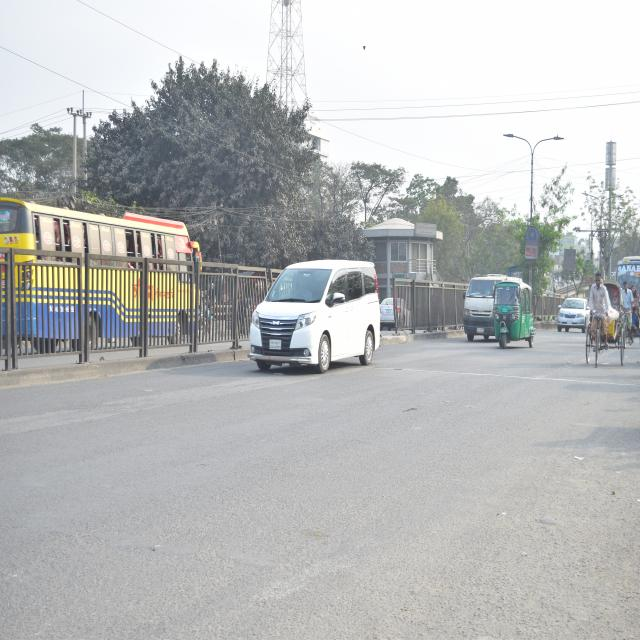bus: (1, 215, 210, 359)
car: (242, 249, 384, 386), (554, 293, 591, 340)
microbus: (460, 274, 498, 343)
